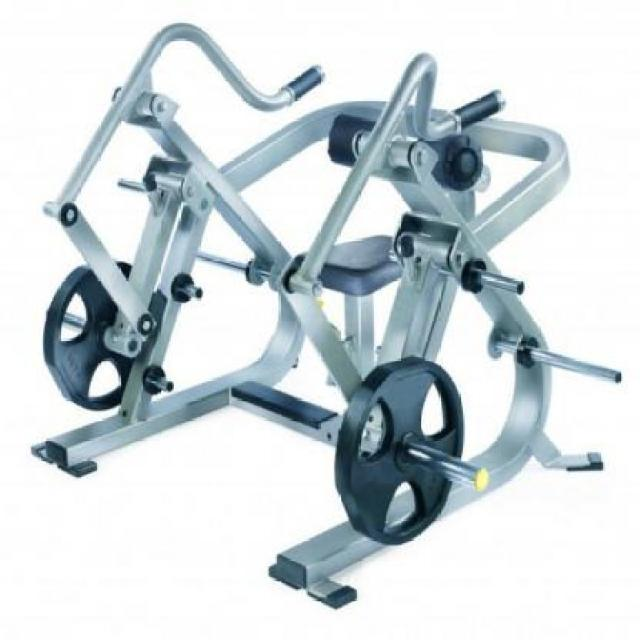seated dip machine: (32, 23, 623, 611)
